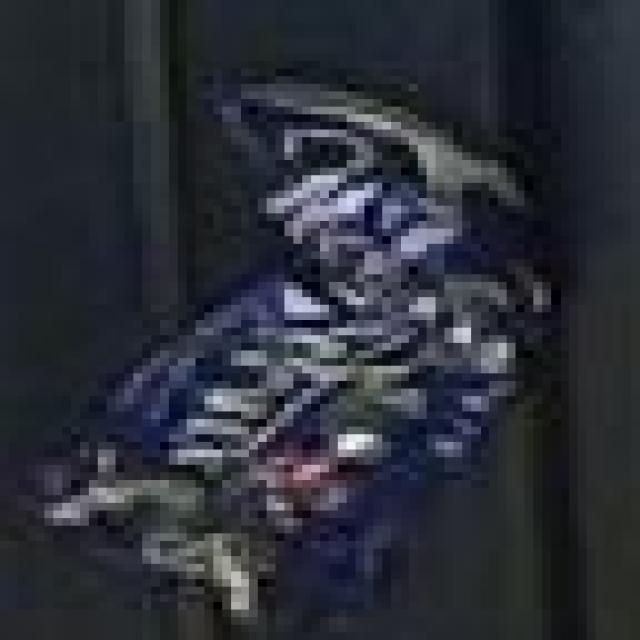can: (7, 45, 608, 639)
